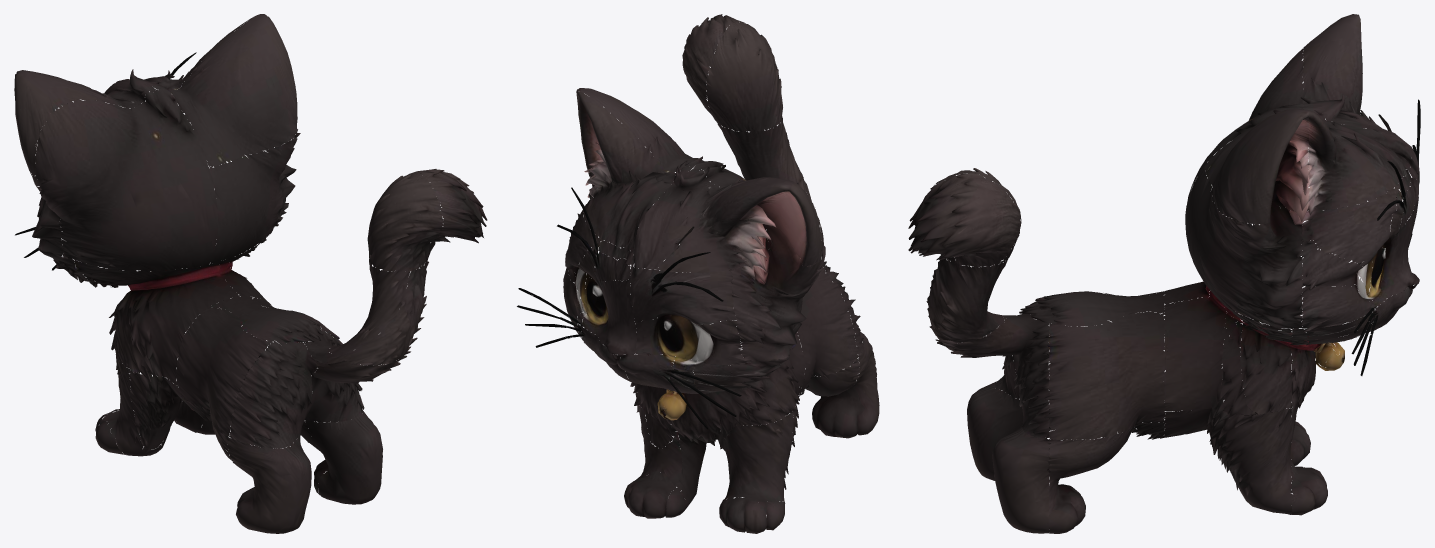
File: cat-hi3d.glb
3 renders of one model, left to right at view 1: azimuth 30°, elevation 25°; view 2: azimuth 150°, elevation 25°; view 3: azimuth 270°, elevation 25°, orthographic. The views are drawn at different scales.
Visible parts, largest first — view 1: geometry_0; view 2: geometry_0; view 3: geometry_0.
Part boxes in pixels (x1,y1,x2,y2): geometry_0: (14,14,487,533); geometry_0: (517,14,879,533); geometry_0: (908,14,1420,533).
Bounding box in the file's own units: 0.703 × 0.9 × 0.9697.
Materials: 1 (1 with a texture image).
